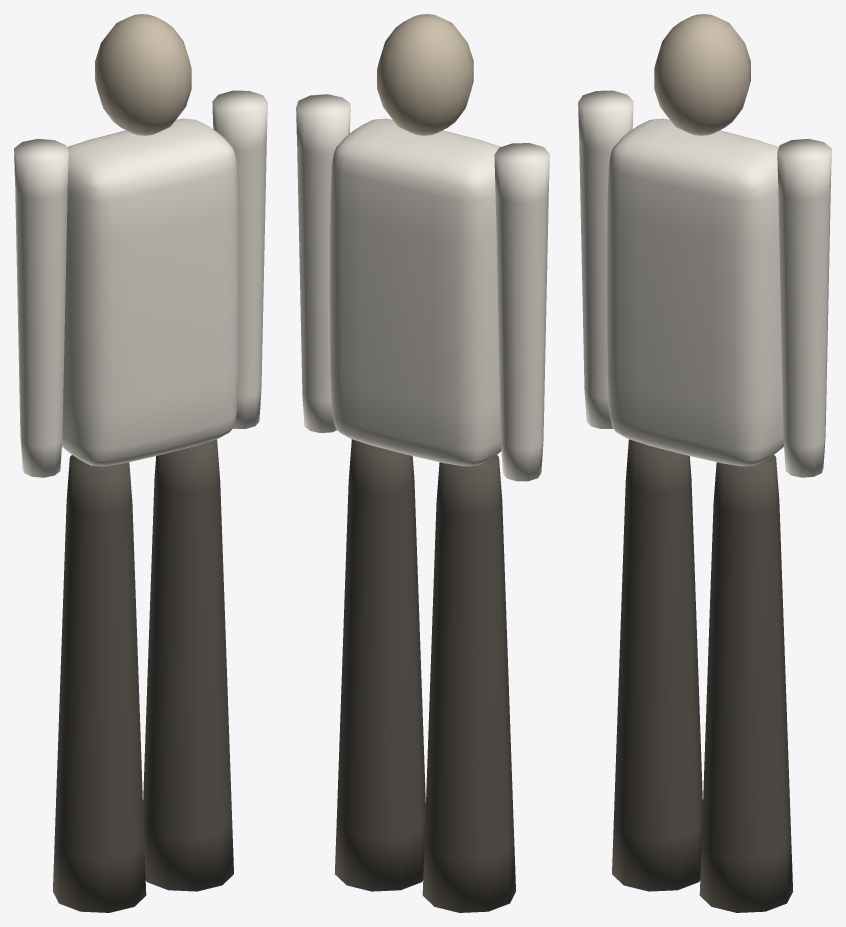
File: person-standing.glb
3 views of the same model, side by side, from view 1: azimuth 30°, elevation 25°; view 2: azimuth 150°, elevation 25°; view 3: azimuth 330°, elevation 25° (orthographic).
Parts seen in each view (by area): view 1: torso, leg_-1, leg_1, arm_-1, arm_1, head; view 2: torso, leg_-1, leg_1, arm_-1, arm_1, head; view 3: torso, leg_1, leg_-1, arm_1, arm_-1, head.
Part boxes in pixels (<box>): torso: <box>62,118,239,466</box>; leg_-1: <box>53,455,146,912</box>; leg_1: <box>143,439,233,891</box>; arm_-1: <box>14,139,68,477</box>; arm_1: <box>212,90,267,428</box>; head: <box>95,14,191,135</box>; torso: <box>329,118,501,466</box>; leg_-1: <box>422,455,515,912</box>; leg_1: <box>335,439,425,891</box>; arm_-1: <box>494,143,549,481</box>; arm_1: <box>296,94,350,432</box>; head: <box>377,14,473,135</box>; torso: <box>606,118,783,466</box>; leg_1: <box>699,455,792,912</box>; leg_-1: <box>612,439,702,891</box>; arm_1: <box>777,139,831,477</box>; arm_-1: <box>578,90,633,428</box>; head: <box>654,14,750,135</box>.
Bounding box in the file's own units: 0.5338 × 1.79 × 0.2084.
